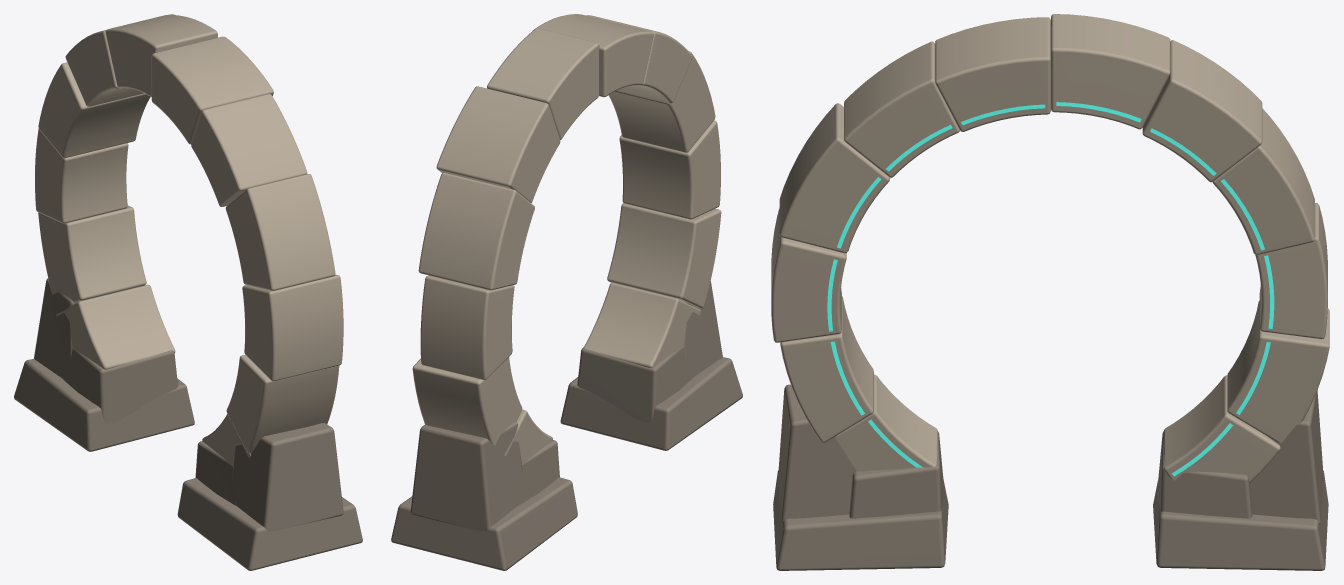
3 renders of one model, left to right at view 1: azimuth 30°, elevation 25°; view 2: azimuth 150°, elevation 25°; view 3: azimuth 270°, elevation 25°, orthographic. The views are drawn at different scales.
Parts seen in each view (by area): view 1: G28_stone_09, G28_base_L_outer, G28_stone_10, G28_stone_08, G28_base_L_foot, G28_stone_02, G28_base_R_foot, G28_stone_07, G28_stone_11, G28_stone_01, G28_stone_03, G28_stone_04 (+6 smaller); view 2: G28_stone_04, G28_base_R_outer, G28_stone_05, G28_stone_11, G28_stone_03, G28_base_R_foot, G28_base_L_foot, G28_stone_06, G28_stone_10, G28_stone_12, G28_stone_02, G28_stone_09 (+6 smaller); view 3: G28_stone_06, G28_stone_07, G28_stone_05, G28_base_L_foot, G28_base_R_foot, G28_stone_09, G28_stone_08, G28_stone_02, G28_stone_04, G28_stone_11, G28_base_L_outer, G28_stone_10 (+6 smaller).
Boxes of the visible parts, left/top/right/bottom form: G28_stone_09: left=225, top=174, right=335, bottom=290; G28_base_L_outer: left=232, top=423, right=343, bottom=531; G28_stone_10: left=242, top=274, right=343, bottom=381; G28_stone_08: left=191, top=94, right=307, bottom=206; G28_base_L_foot: left=177, top=478, right=362, bottom=570; G28_stone_02: left=38, top=205, right=146, bottom=303; G28_base_R_foot: left=14, top=359, right=194, bottom=451; G28_stone_07: left=151, top=36, right=273, bottom=144; G28_stone_11: left=226, top=355, right=339, bottom=452; G28_stone_01: left=56, top=284, right=175, bottom=369; G28_stone_03: left=35, top=128, right=128, bottom=223; G28_stone_04: left=38, top=62, right=150, bottom=158; G28_stone_04: left=418, top=172, right=534, bottom=290; G28_base_R_outer: left=410, top=422, right=522, bottom=531; G28_stone_05: left=436, top=86, right=560, bottom=203; G28_stone_11: left=607, top=203, right=721, bottom=308; G28_stone_03: left=420, top=275, right=514, bottom=379; G28_base_R_foot: left=391, top=477, right=577, bottom=570; G28_base_L_foot: left=560, top=357, right=742, bottom=450; G28_stone_06: left=487, top=28, right=599, bottom=139; G28_stone_10: left=619, top=120, right=720, bottom=219; G28_stone_12: left=583, top=282, right=700, bottom=367; G28_stone_02: left=412, top=357, right=522, bottom=445; G28_stone_09: left=608, top=51, right=715, bottom=152; G28_stone_06: left=1051, top=14, right=1170, bottom=129; G28_stone_07: left=935, top=17, right=1050, bottom=131; G28_stone_05: left=1142, top=40, right=1262, bottom=182; G28_base_L_foot: left=773, top=470, right=948, bottom=570; G28_base_R_foot: left=1153, top=470, right=1328, bottom=570; G28_stone_09: left=779, top=103, right=890, bottom=253; G28_stone_08: left=844, top=41, right=959, bottom=177; G28_stone_02: left=1227, top=300, right=1329, bottom=442; G28_stone_04: left=1212, top=108, right=1314, bottom=255; G28_stone_11: left=780, top=296, right=873, bottom=442; G28_base_L_outer: left=778, top=384, right=856, bottom=523; G28_stone_10: left=771, top=208, right=846, bottom=342.
Size of the model in its own units: 0.93 by 3.32 by 3.31.
